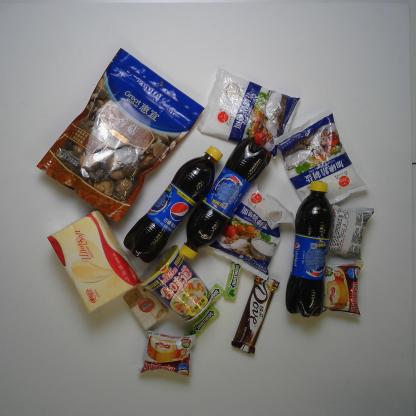Chocolate: (230, 271, 282, 355)
Dessert: (328, 203, 376, 260), (137, 331, 195, 378), (320, 260, 366, 318)
Dried Food: (35, 45, 206, 224)
Drink: (122, 146, 224, 265), (179, 137, 272, 260), (284, 180, 331, 318)
Gum: (185, 307, 220, 339), (224, 259, 246, 299), (207, 282, 224, 310)
Instant Noodles: (138, 243, 211, 322)
Seasoner: (198, 64, 302, 158), (273, 112, 368, 209), (209, 185, 303, 280)
Tissue: (45, 209, 141, 313), (124, 284, 170, 331)
